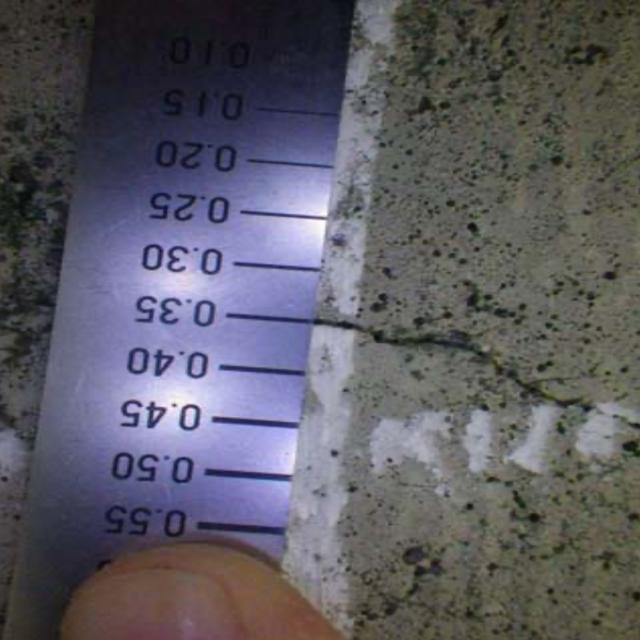crack: (307, 306, 640, 440)
